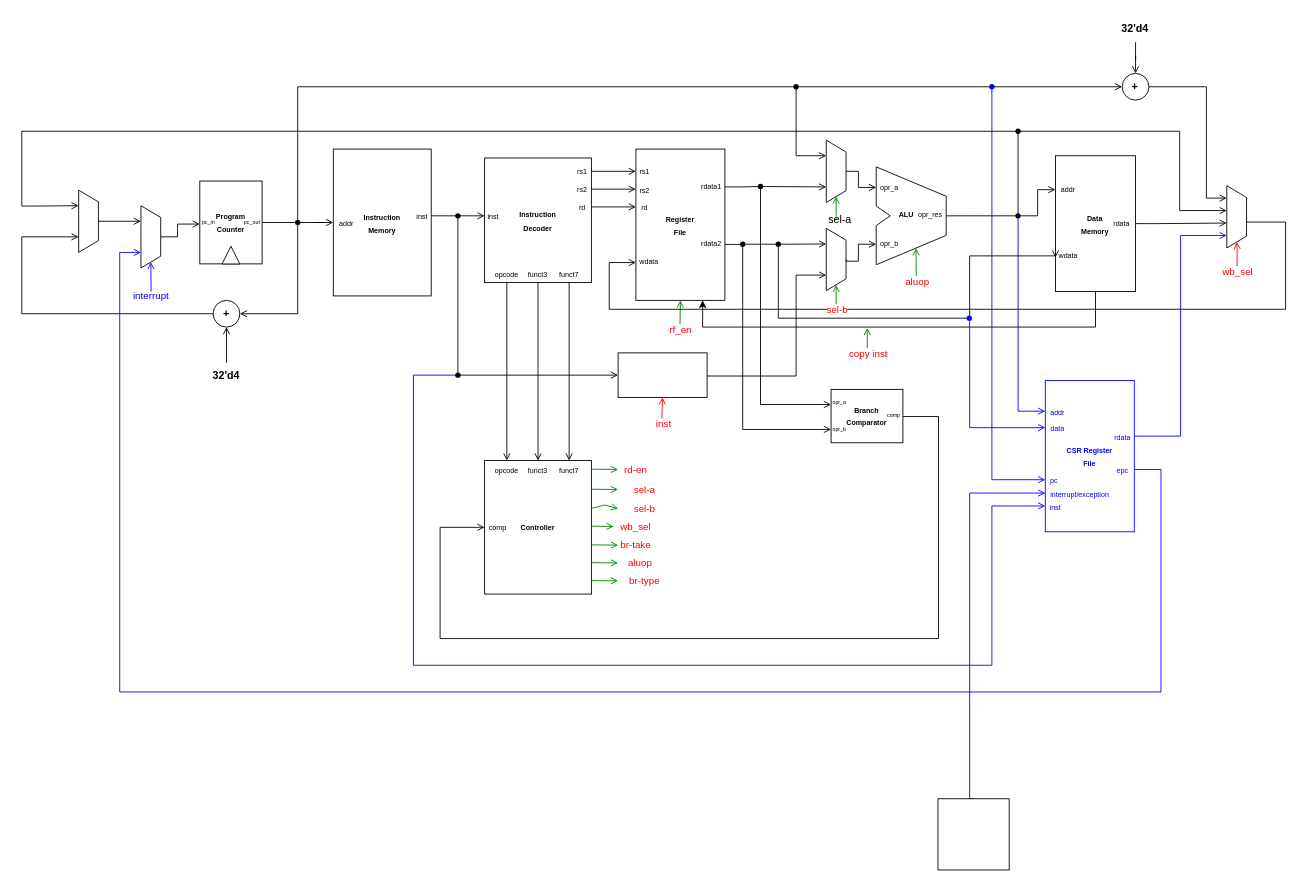
Image size: 1308x886. Some labels were removed from this diagram. The shapes that lost their labels are listed below. From the top down, each one's centre as x and y in pixels, then its label:
the point at 662,374: Immediate Generator
the point at 973,834: Timer
